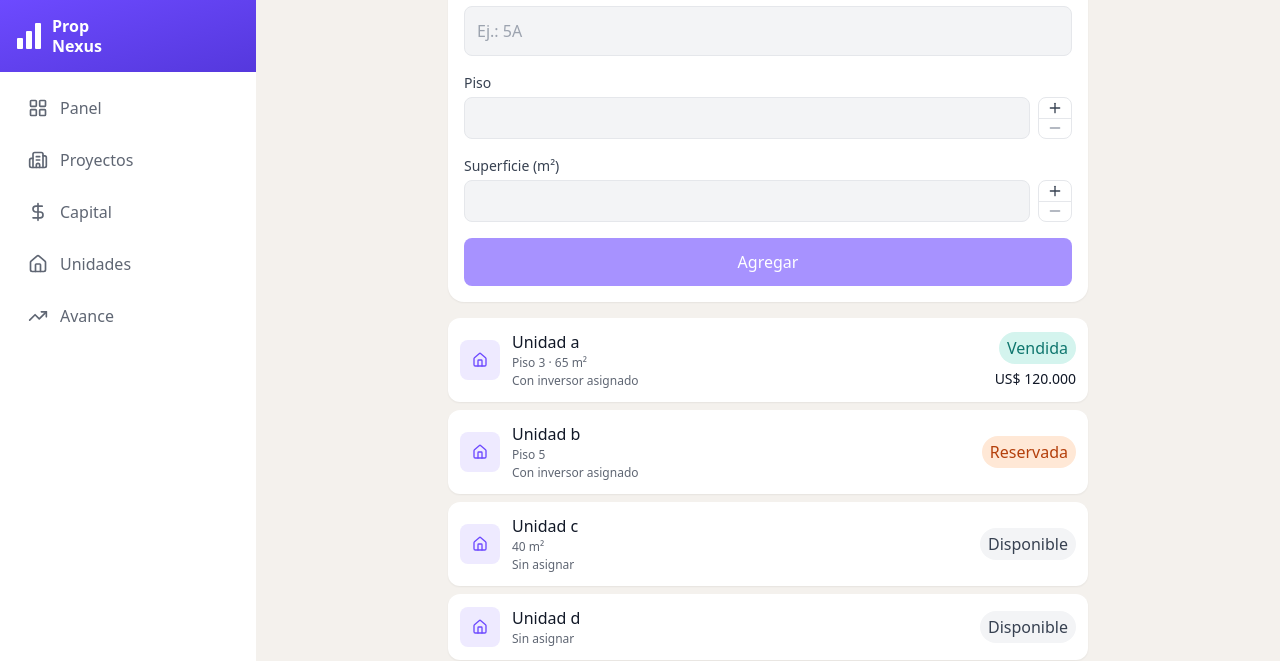
Test: /developer/project/$projectId/units › edición › cancelar vuelve al modo alta y vacía los campos
(page scrolled)
Click the button "Unidad a". click: (480, 360)
box: [448, 318, 1088, 402]
(page scrolled)
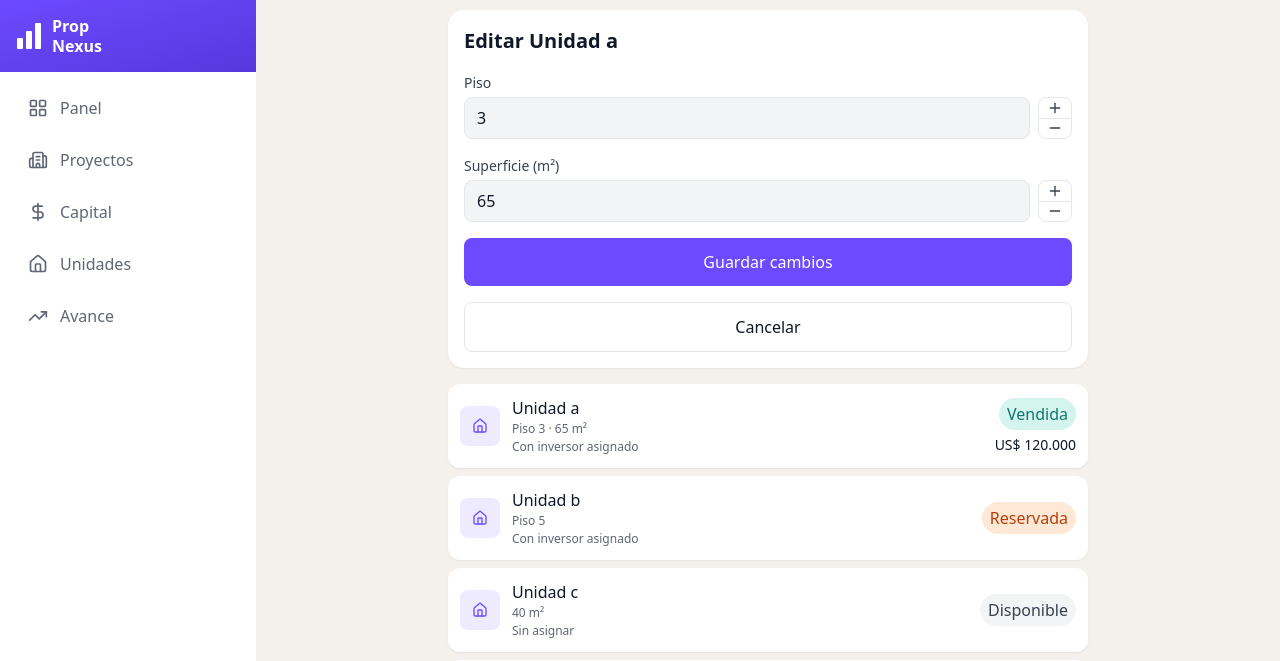
Click the button "Cancelar". click: (768, 327)
box: [464, 302, 1072, 352]
(page scrolled)
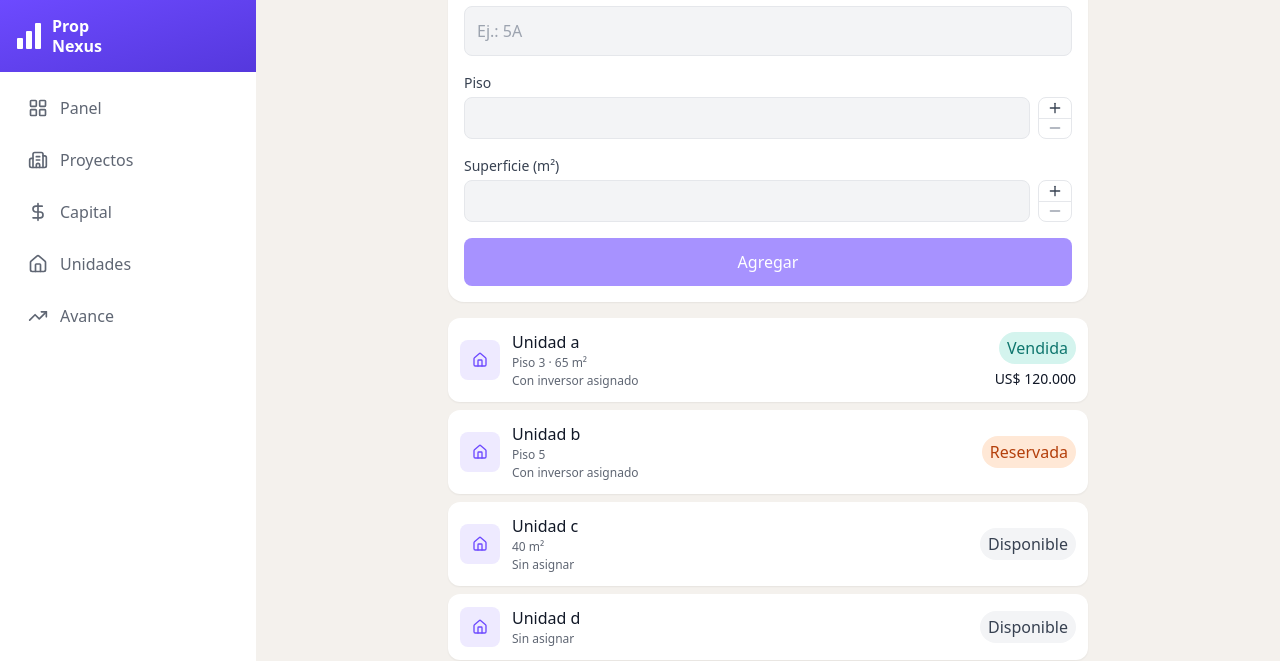
Expected: the number field labelled "Piso" is empty, [464, 97, 1030, 139]
Expected: the number field labelled "Superficie (m²)" is empty, [464, 180, 1030, 222]
